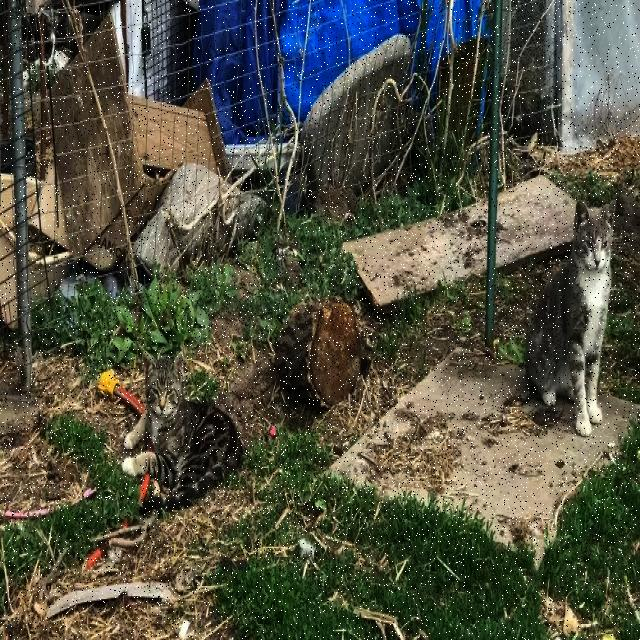cat: (525, 200, 616, 435), (121, 353, 241, 512)
